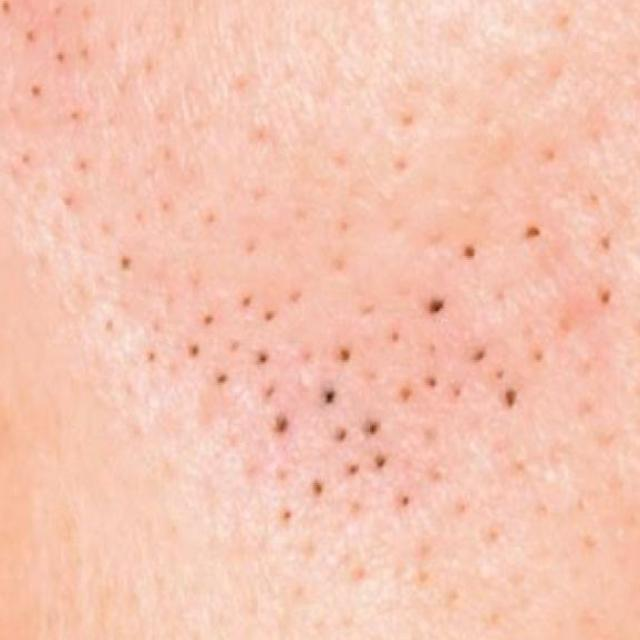blackhead: (150, 160, 604, 540)
